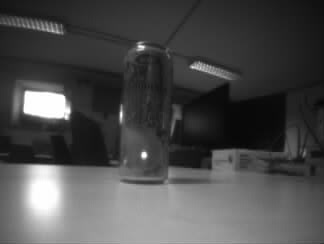Tin can: (120, 41, 172, 184)
